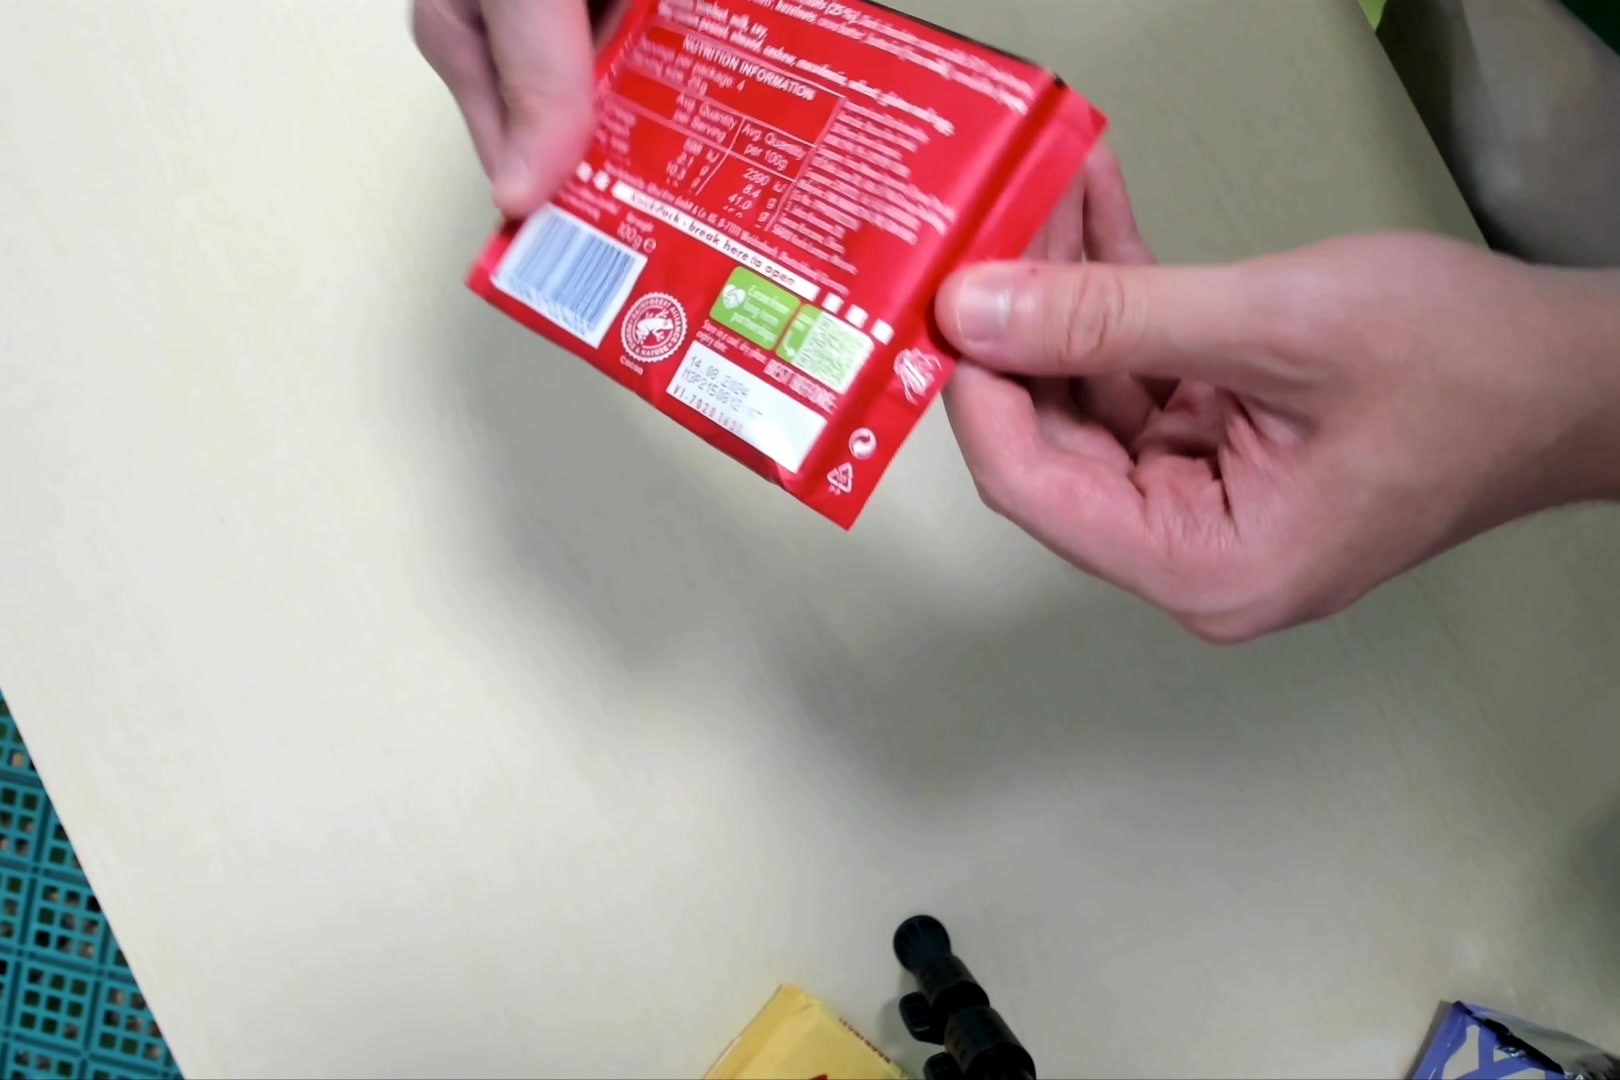SweetsChocolatesOthers_100-199g_NonHalal_NonHealthy: (456, 11, 1108, 529)
